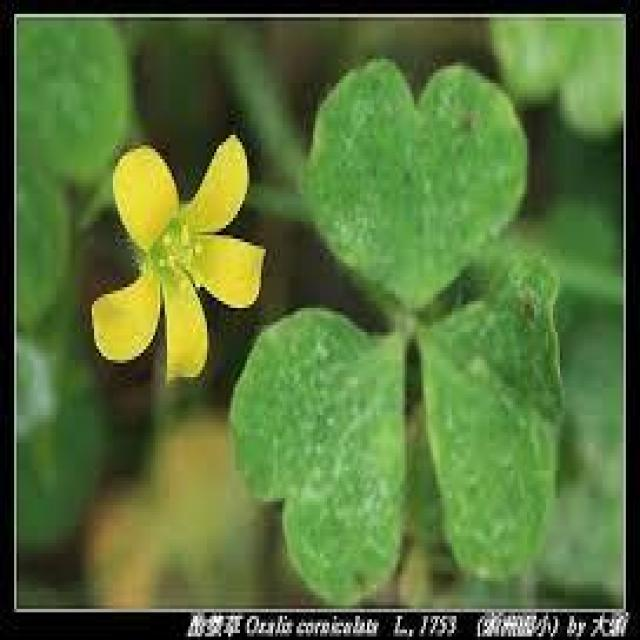organic waste: (89, 135, 273, 387)
